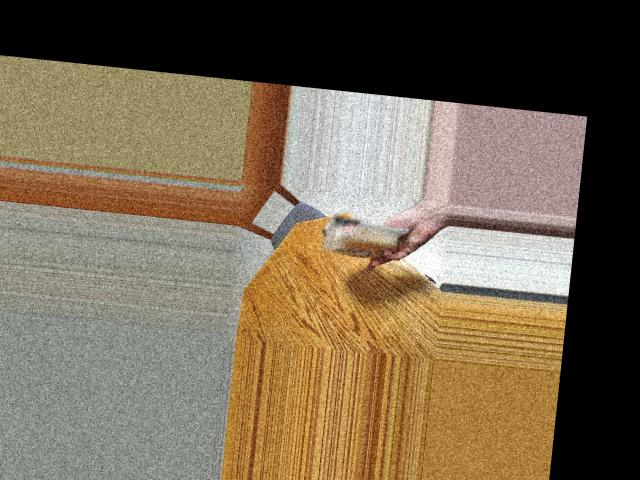cheese: (322, 207, 402, 270)
